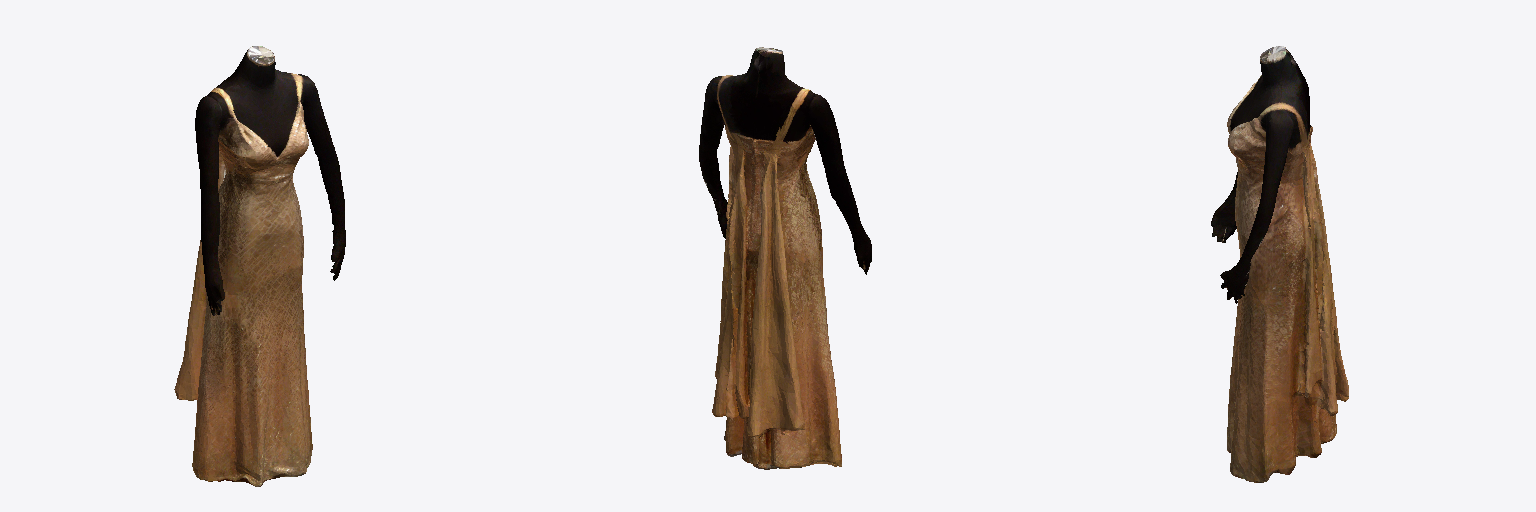
3 renders of one model, left to right at view 1: azimuth 30°, elevation 25°; view 2: azimuth 150°, elevation 25°; view 3: azimuth 270°, elevation 25°, orthographic.
Parts seen in each view (by area): view 1: model_mesh.002; view 2: model_mesh.002; view 3: model_mesh.002.
Part boxes in pixels (x1,y1,x2,y2): model_mesh.002: (174,46,345,486); model_mesh.002: (699,47,871,469); model_mesh.002: (1211,46,1348,482).
Size of the model in its own units: 0.3478 by 0.9181 by 0.2775.
1 materials, 1 textured.